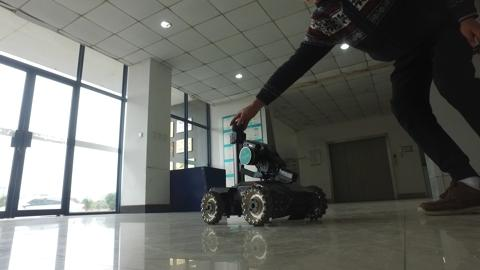chariot: (185, 111, 339, 237)
